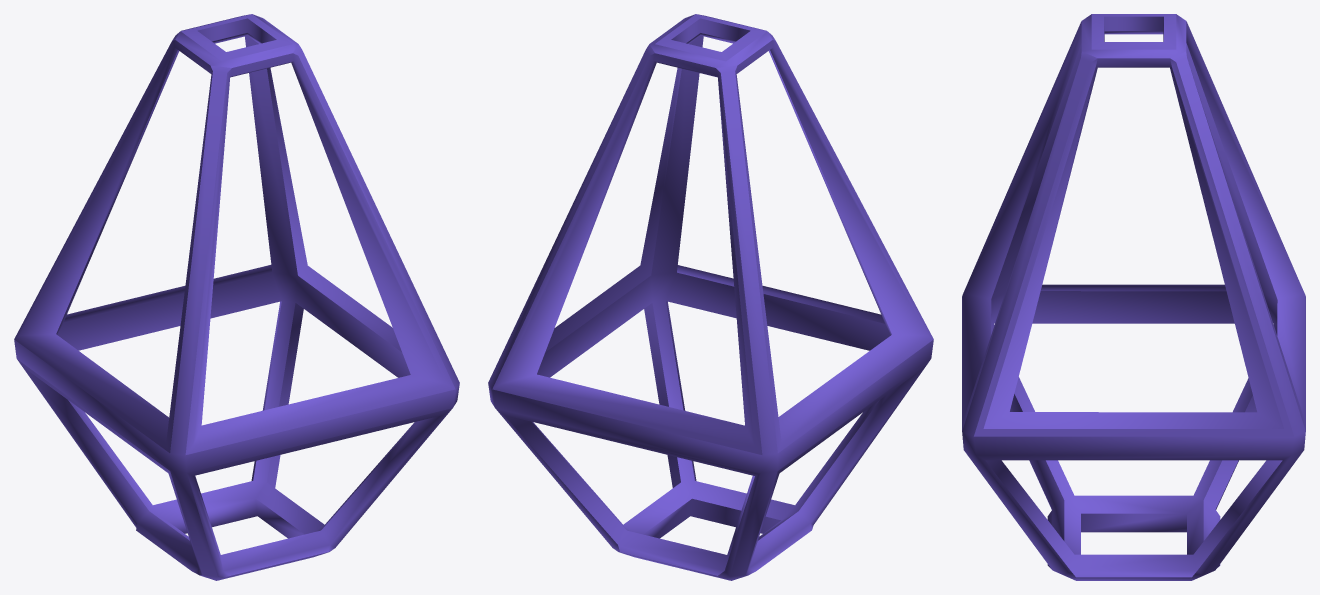
File: the_dream_prop_cage.fbx
3 renders of one model, left to right at view 1: azimuth 30°, elevation 25°; view 2: azimuth 150°, elevation 25°; view 3: azimuth 270°, elevation 25°, orthographic. The views are drawn at different scales.
Visible parts, largest first — view 1: dream cage; view 2: dream cage; view 3: dream cage.
Boxes of the visible parts, bbox=[...] form: dream cage: bbox=[14, 14, 459, 580]; dream cage: bbox=[488, 14, 933, 580]; dream cage: bbox=[962, 14, 1305, 580].
Bounding box in the file's own units: 0.2039 × 0.3451 × 0.2039.
